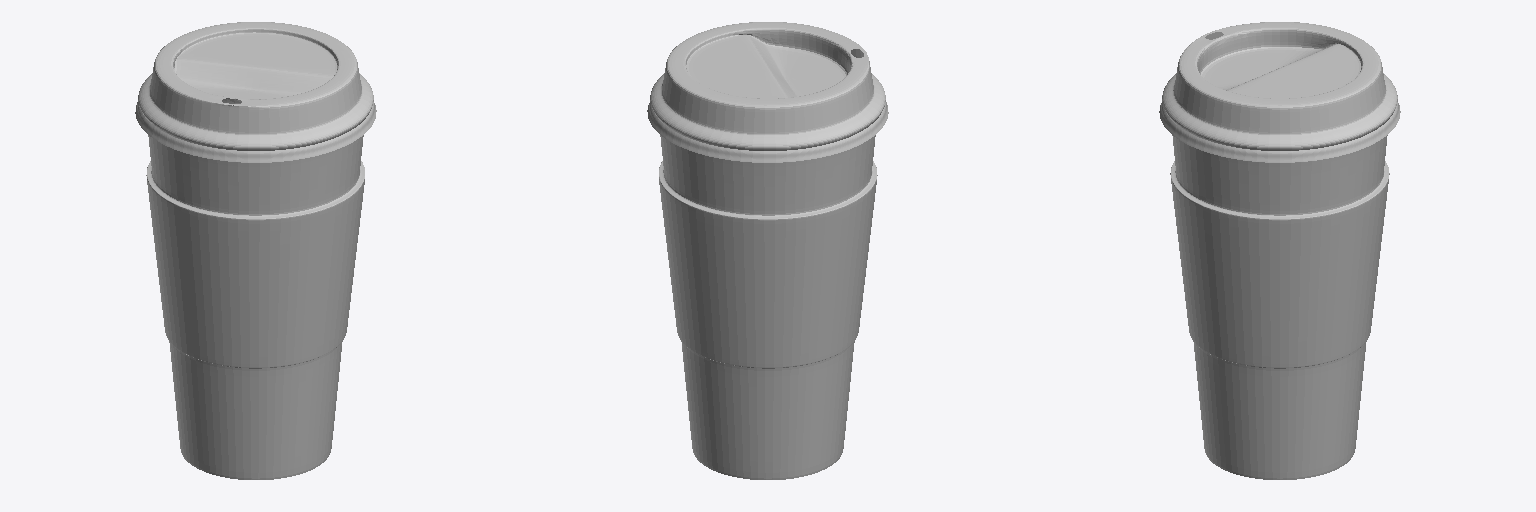
The model's file is Starbuckscup.obj.
3 renders of one model, left to right at view 1: azimuth 30°, elevation 25°; view 2: azimuth 150°, elevation 25°; view 3: azimuth 270°, elevation 25°, orthographic.
Visible parts, largest first — view 1: starbuckscup2; view 2: starbuckscup2; view 3: starbuckscup2.
Part boxes in pixels (x1,y1,x2,y2): starbuckscup2: (135, 22, 376, 479); starbuckscup2: (647, 22, 888, 479); starbuckscup2: (1159, 22, 1400, 479).
Bounding box in the file's own units: 5.34 × 9.4 × 5.34.